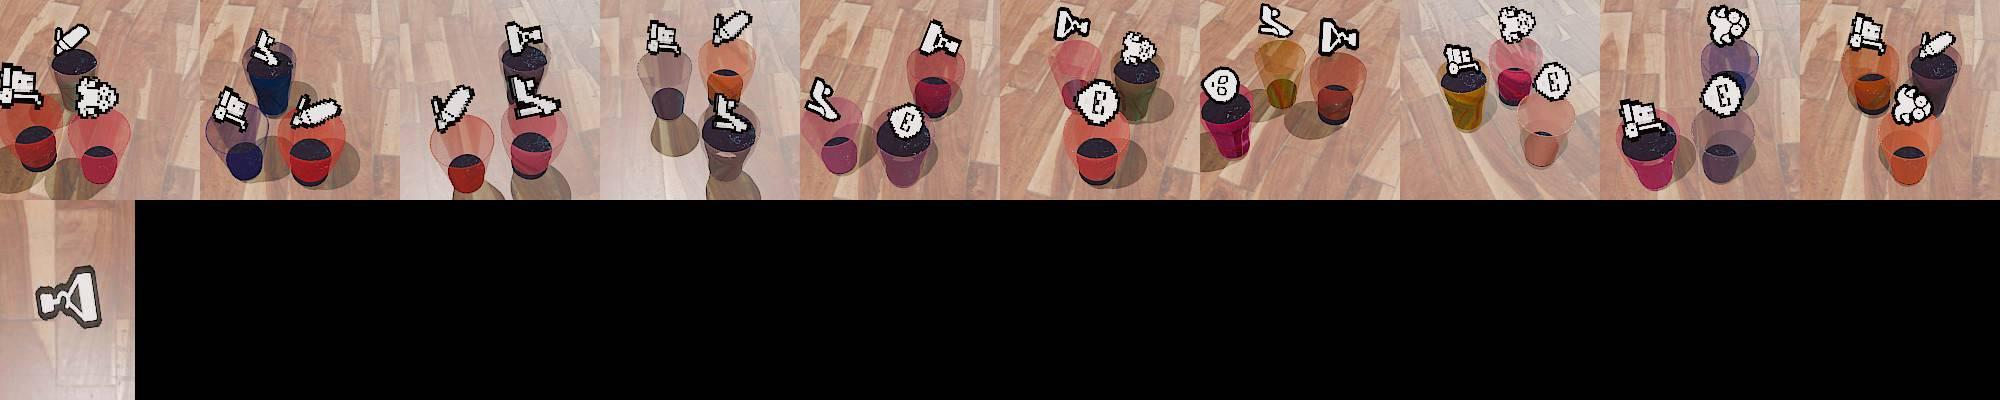icon: (34, 264, 103, 327), (506, 74, 561, 120), (1073, 76, 1121, 126), (1621, 96, 1672, 141), (430, 84, 476, 132), (1699, 71, 1745, 117), (0, 60, 43, 108), (74, 75, 121, 118), (290, 94, 344, 130), (1890, 83, 1934, 125), (1707, 5, 1749, 47), (212, 85, 251, 130), (709, 90, 750, 132), (918, 18, 962, 57), (1200, 65, 1241, 106), (1532, 60, 1571, 102), (1318, 17, 1360, 56), (805, 76, 842, 121), (710, 9, 753, 47), (1496, 5, 1536, 43), (889, 102, 927, 140), (1848, 11, 1885, 51), (504, 19, 545, 55), (645, 18, 682, 56), (1054, 5, 1092, 42), (250, 27, 283, 69), (54, 23, 92, 57), (1917, 29, 1957, 61), (1441, 42, 1476, 76), (1258, 3, 1291, 38), (1120, 31, 1156, 64)
